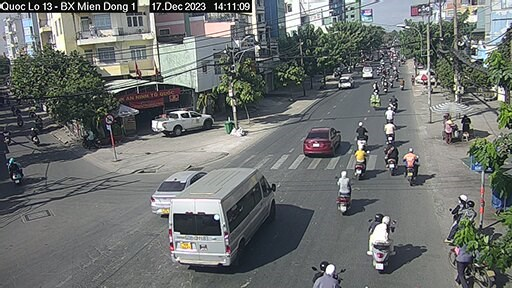car: (171, 166, 280, 268), (153, 111, 211, 136), (301, 122, 340, 155), (338, 74, 355, 90), (362, 64, 374, 82)
motorbike: (363, 209, 395, 268), (334, 171, 359, 214), (382, 135, 399, 172), (404, 150, 420, 185), (352, 147, 369, 175), (356, 118, 367, 147), (386, 116, 395, 141), (387, 105, 397, 127)
